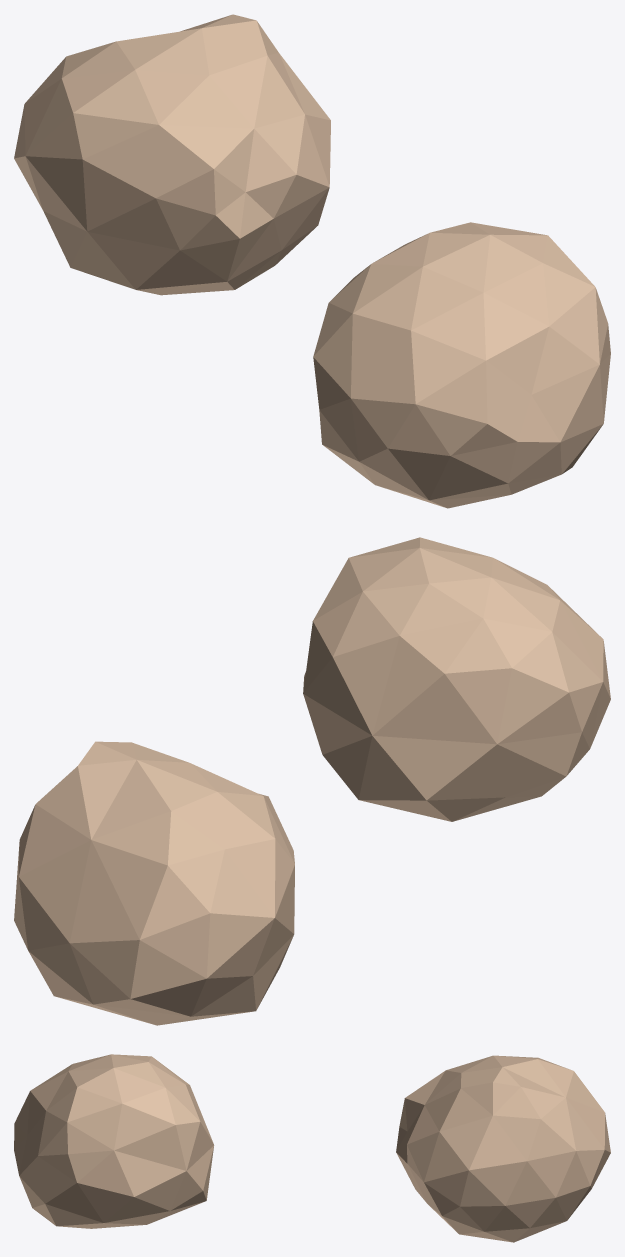
3 views of the same model, one above another, from view 1: azimuth 30°, elevation 25°; view 2: azimuth 150°, elevation 25°; view 3: azimuth 270°, elevation 25° (orthographic). The views are drawn at different scales.
Visible parts, largest first — view 1: 599626927.obj; view 2: 599626927.obj; view 3: 599626927.obj.
Boxes of the visible parts, box(x1,y1,x2,y2) form: 599626927.obj: box(14, 14, 610, 508); 599626927.obj: box(14, 537, 610, 1025); 599626927.obj: box(14, 1054, 610, 1242).
Bounding box in the file's own units: 275 × 249 × 780.
